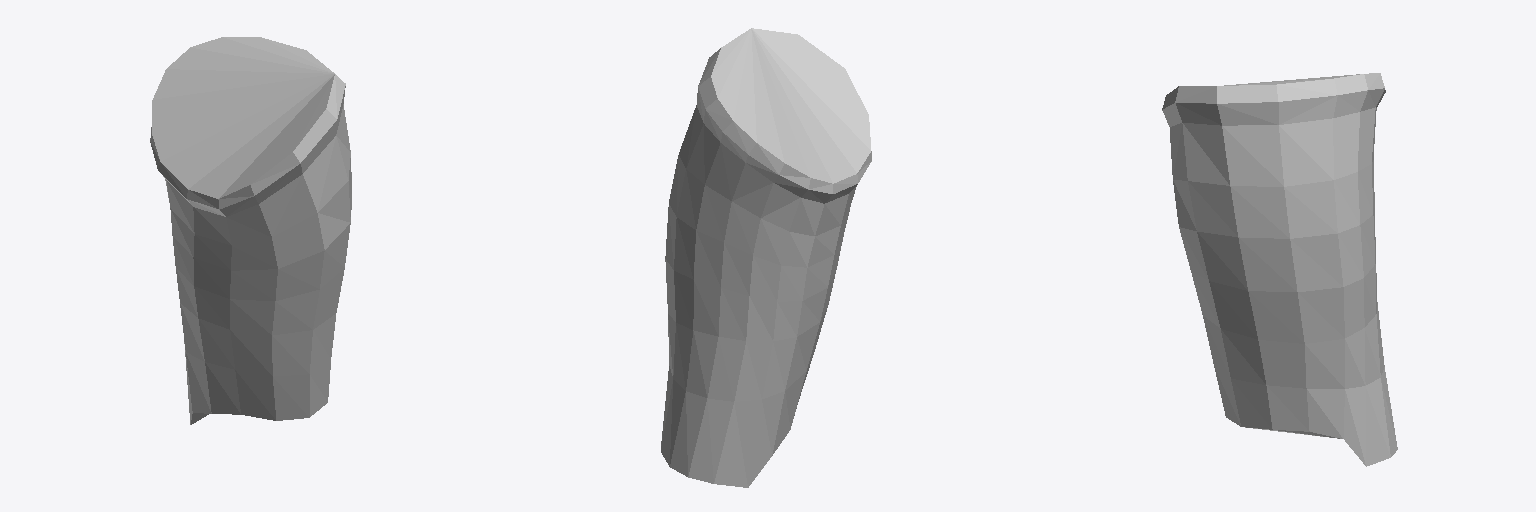
The model's file is jambe_gauche.obj.
The picture shows the model from 3 angles: view 1: azimuth 30°, elevation 25°; view 2: azimuth 150°, elevation 25°; view 3: azimuth 270°, elevation 25°; orthographic projection.
Visible parts, largest first — view 1: Soi_SimpleArmor.002_Plane.002; view 2: Soi_SimpleArmor.002_Plane.002; view 3: Soi_SimpleArmor.002_Plane.002.
Part boxes in pixels (x1,y1,x2,y2): Soi_SimpleArmor.002_Plane.002: (150,37,351,424); Soi_SimpleArmor.002_Plane.002: (661,28,871,487); Soi_SimpleArmor.002_Plane.002: (1162,73,1397,466).
Bounding box in the file's own units: 0.1843 × 0.4215 × 0.2307.